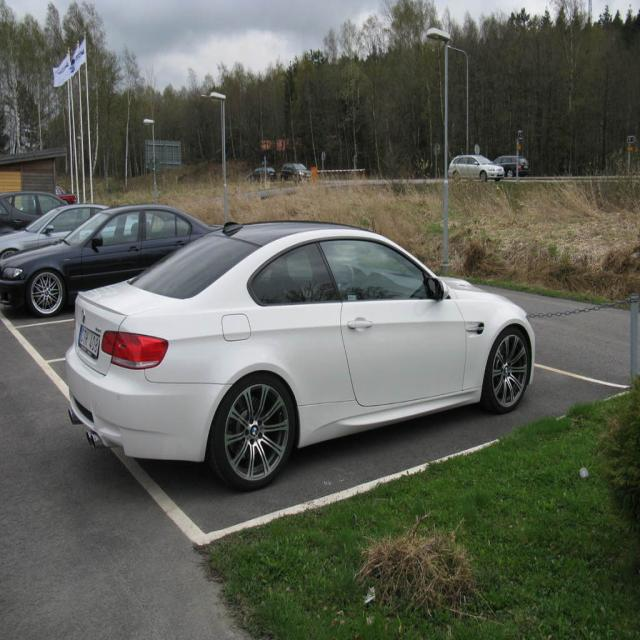car: (56, 217, 543, 495)
